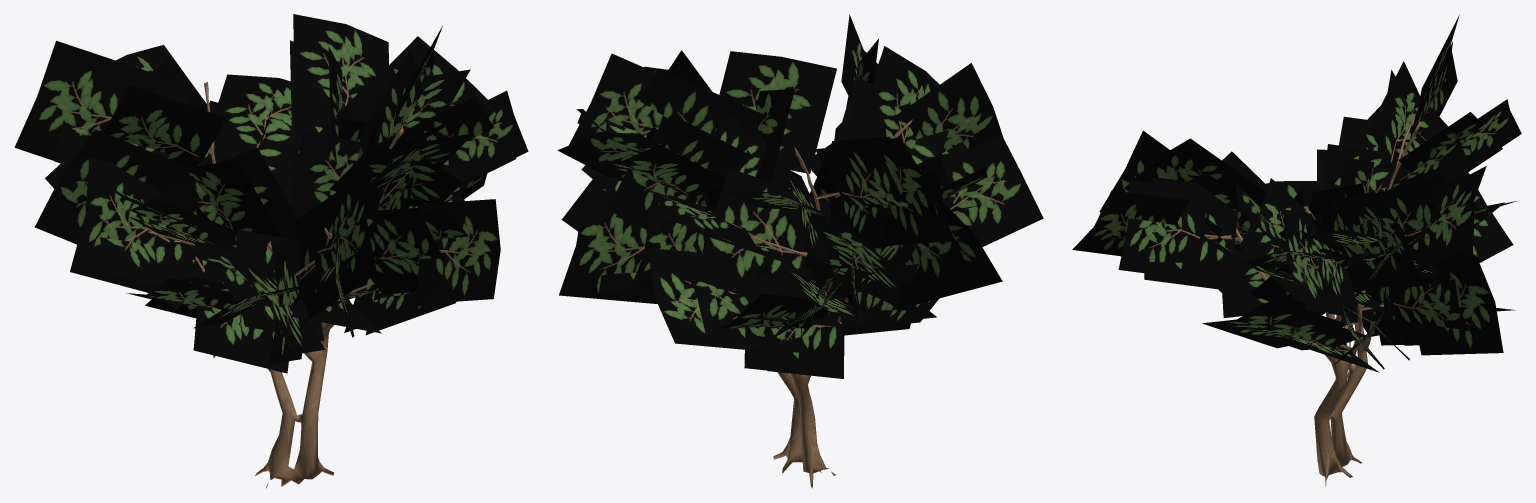
File: Arbousier_V10_1_LOD1.fbx
3 views of the same model, side by side, from view 1: azimuth 30°, elevation 25°; view 2: azimuth 150°, elevation 25°; view 3: azimuth 270°, elevation 25° (orthographic). The views are drawn at different scales.
Parts seen in each view (by area): view 1: Arbousier_V10_1_LOD1; view 2: Arbousier_V10_1_LOD1; view 3: Arbousier_V10_1_LOD1.
Boxes of the visible parts, x1,y1,x2,y2 form: Arbousier_V10_1_LOD1: (14,14,528,488); Arbousier_V10_1_LOD1: (557,14,1043,488); Arbousier_V10_1_LOD1: (1072,15,1521,486).
Size of the model in its own units: 182 by 173 by 182.
